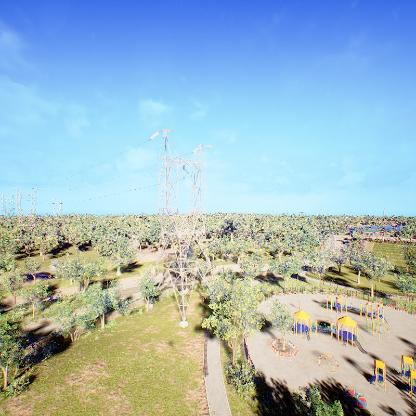tower: (147, 124, 220, 328)
